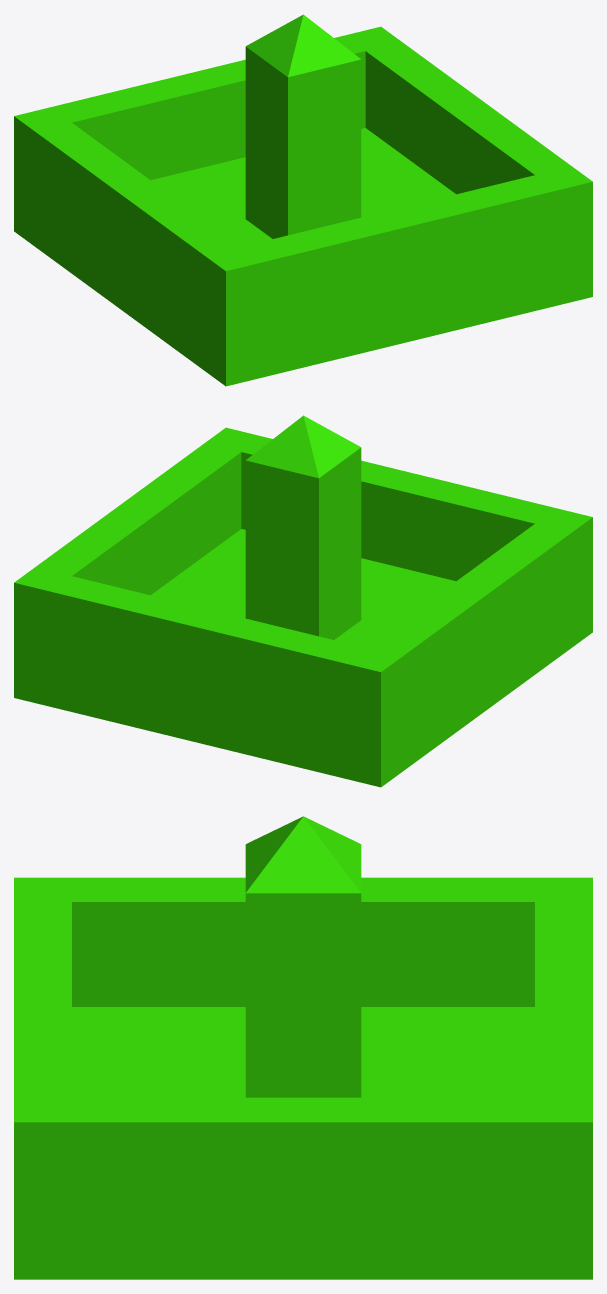
The model's file is fountain01_square.fbx.
3 views of the same model, one above another, from view 1: azimuth 30°, elevation 25°; view 2: azimuth 150°, elevation 25°; view 3: azimuth 270°, elevation 25° (orthographic). The views are drawn at different scales.
Visible parts, largest first — view 1: fountain01_square; view 2: fountain01_square; view 3: fountain01_square.
Boxes of the visible parts, box(x1,y1,x2,y2) form: fountain01_square: box(14, 14, 592, 386); fountain01_square: box(14, 415, 592, 787); fountain01_square: box(14, 816, 592, 1279).
Size of the model in its own units: 200 by 130 by 200.
